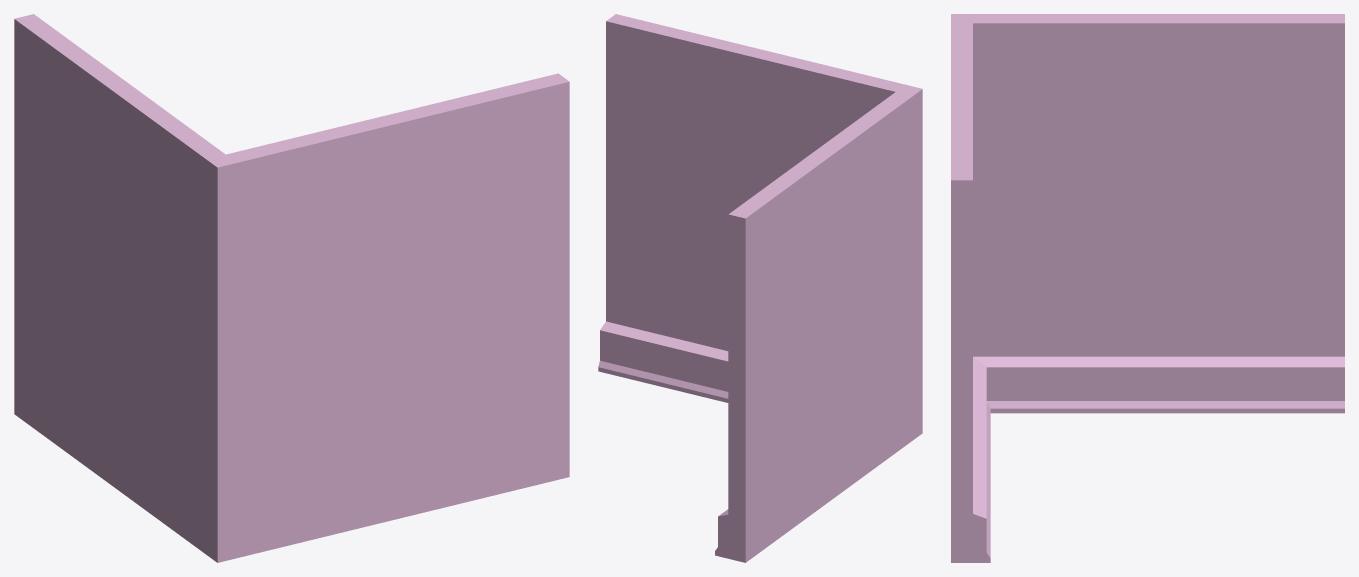
Rendered from Wall_Corner.fbx.
3 renders of one model, left to right at view 1: azimuth 30°, elevation 25°; view 2: azimuth 150°, elevation 25°; view 3: azimuth 270°, elevation 25°, orthographic. The views are drawn at different scales.
Parts seen in each view (by area): view 1: Corner; view 2: Corner; view 3: Corner.
Boxes of the visible parts, left/top/right/bottom form: Corner: left=14, top=14, right=569, bottom=562; Corner: left=598, top=14, right=922, bottom=562; Corner: left=951, top=14, right=1344, bottom=562.
Bounding box in the file's own units: 10 × 10.72 × 10.
